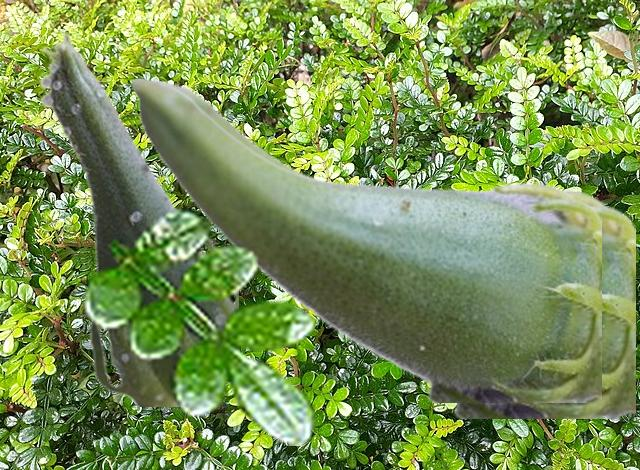okra: (154, 78, 634, 417), (129, 76, 600, 401), (38, 31, 237, 405)
